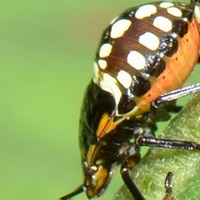insect: (60, 0, 199, 199)
